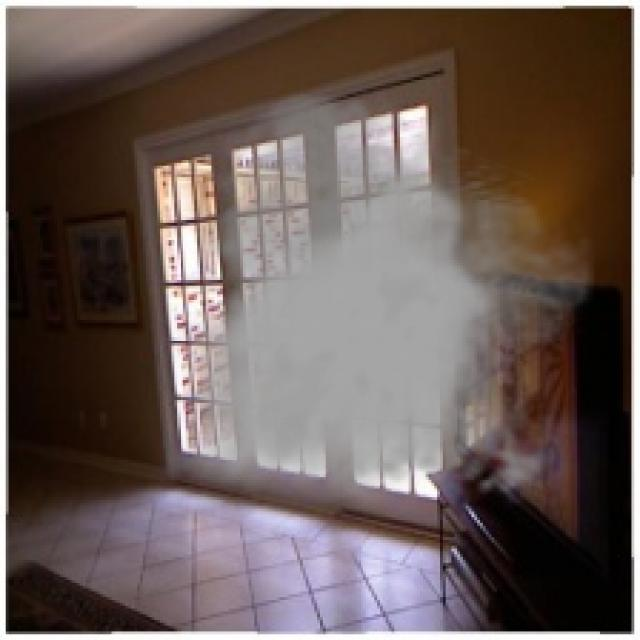Smoke: (168, 89, 594, 508)
